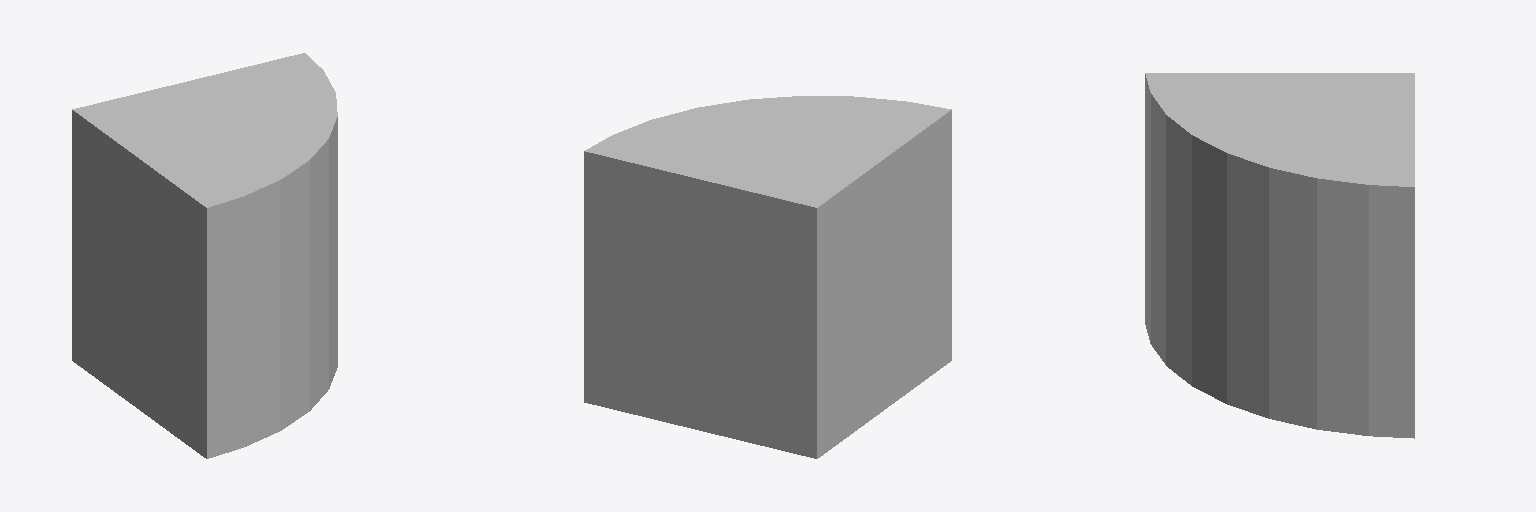
The model's file is full_radius_end_right.obj.
3 renders of one model, left to right at view 1: azimuth 30°, elevation 25°; view 2: azimuth 150°, elevation 25°; view 3: azimuth 270°, elevation 25°, orthographic.
Visible parts, largest first — view 1: Cylinder; view 2: Cylinder; view 3: Cylinder.
Boxes of the visible parts, box(x1,y1,x2,y2) form: Cylinder: box(72, 53, 337, 458); Cylinder: box(584, 96, 951, 458); Cylinder: box(1145, 73, 1414, 438).
Size of the model in its own units: 1.94 by 2 by 1.94.